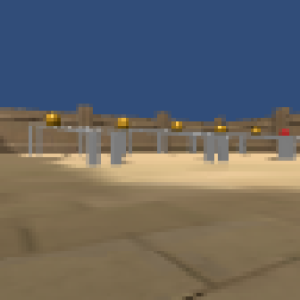badGoal: (278, 127, 290, 138)
goodGoalMulti: (43, 112, 61, 127), (115, 114, 130, 131), (214, 121, 228, 135), (170, 121, 183, 132), (252, 125, 263, 135)
wall: (110, 129, 134, 166), (85, 124, 102, 168), (205, 134, 228, 163), (276, 136, 297, 162), (29, 125, 46, 154), (156, 130, 169, 154), (237, 133, 247, 156), (188, 132, 198, 152)
